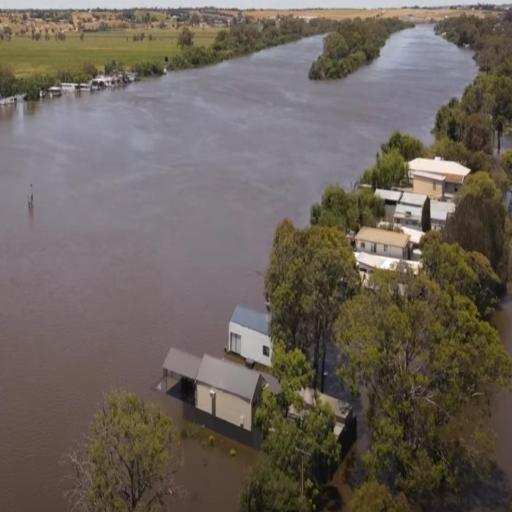flood: (0, 25, 477, 511), (492, 392, 512, 485), (491, 294, 512, 357)
house: (161, 344, 261, 432), (285, 382, 358, 480), (356, 224, 418, 274), (403, 155, 471, 200), (230, 305, 272, 365), (393, 189, 434, 238)
